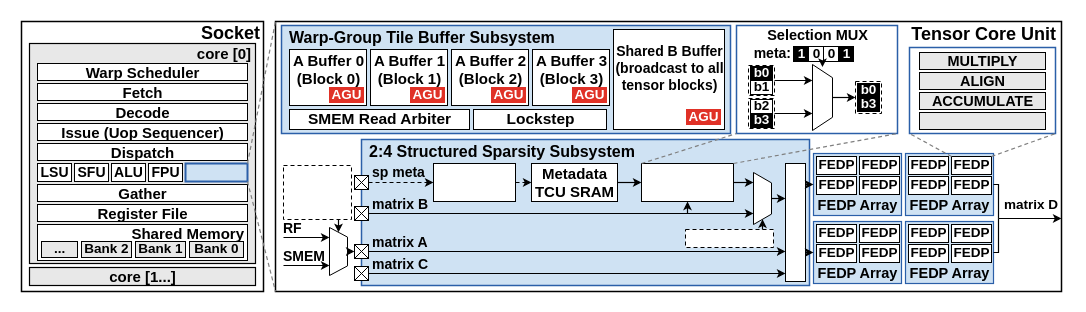
The diagram is 1086 pixels wide and 312 high, and some of its shapes have lost their labels. Here are the shapes that lost their labels. From the top down, the centre of each, then its label:
pixel 982 121: NORM & ROUND
pixel 216 172: TCU
pixel 317 192: RS/SS?
pixel 474 182: Metadata AGU Load
pixel 687 182: Sparse MUX Array
pixel 729 238: Sparse?
pixel 795 222: Pipeline Buffer
